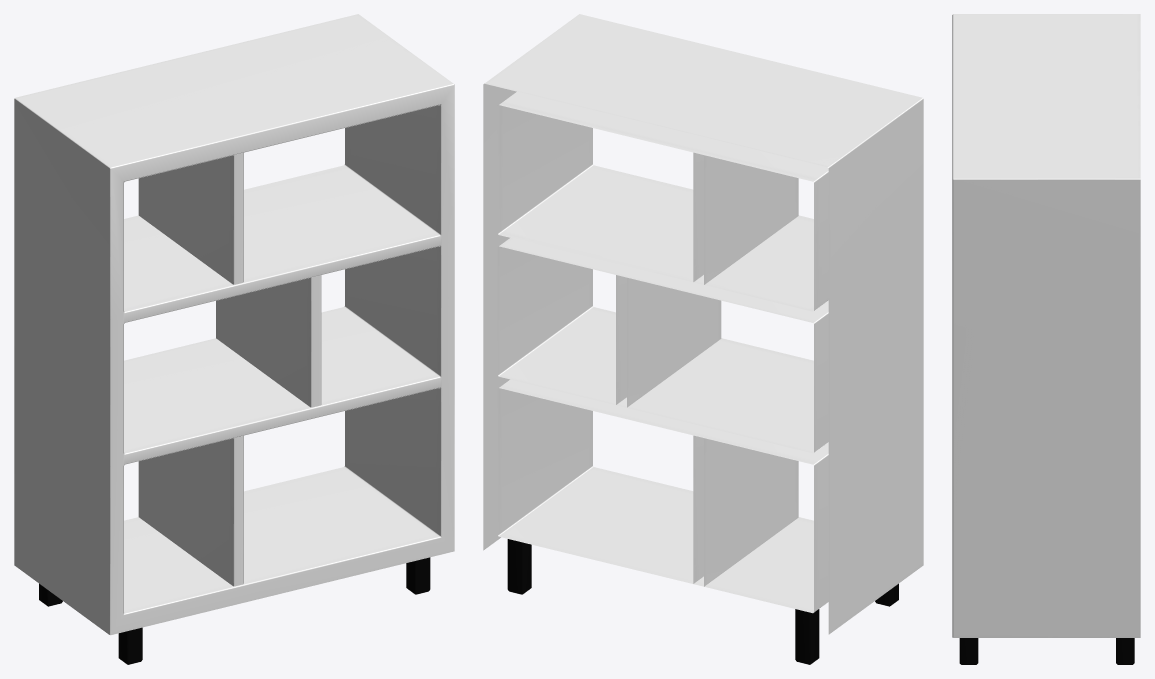
Rendered from book_shelf.fbx.
3 renders of one model, left to right at view 1: azimuth 30°, elevation 25°; view 2: azimuth 150°, elevation 25°; view 3: azimuth 270°, elevation 25°, orthographic.
Parts seen in each view (by area): view 1: book_shelf; view 2: book_shelf; view 3: book_shelf.
Part boxes in pixels (x1,y1,x2,y2): book_shelf: [14, 14, 454, 664]; book_shelf: [483, 14, 923, 664]; book_shelf: [952, 14, 1140, 664].
Bounding box in the file's own units: 83.95 × 117 × 40.35.
Materials: 1 (1 with a texture image).
